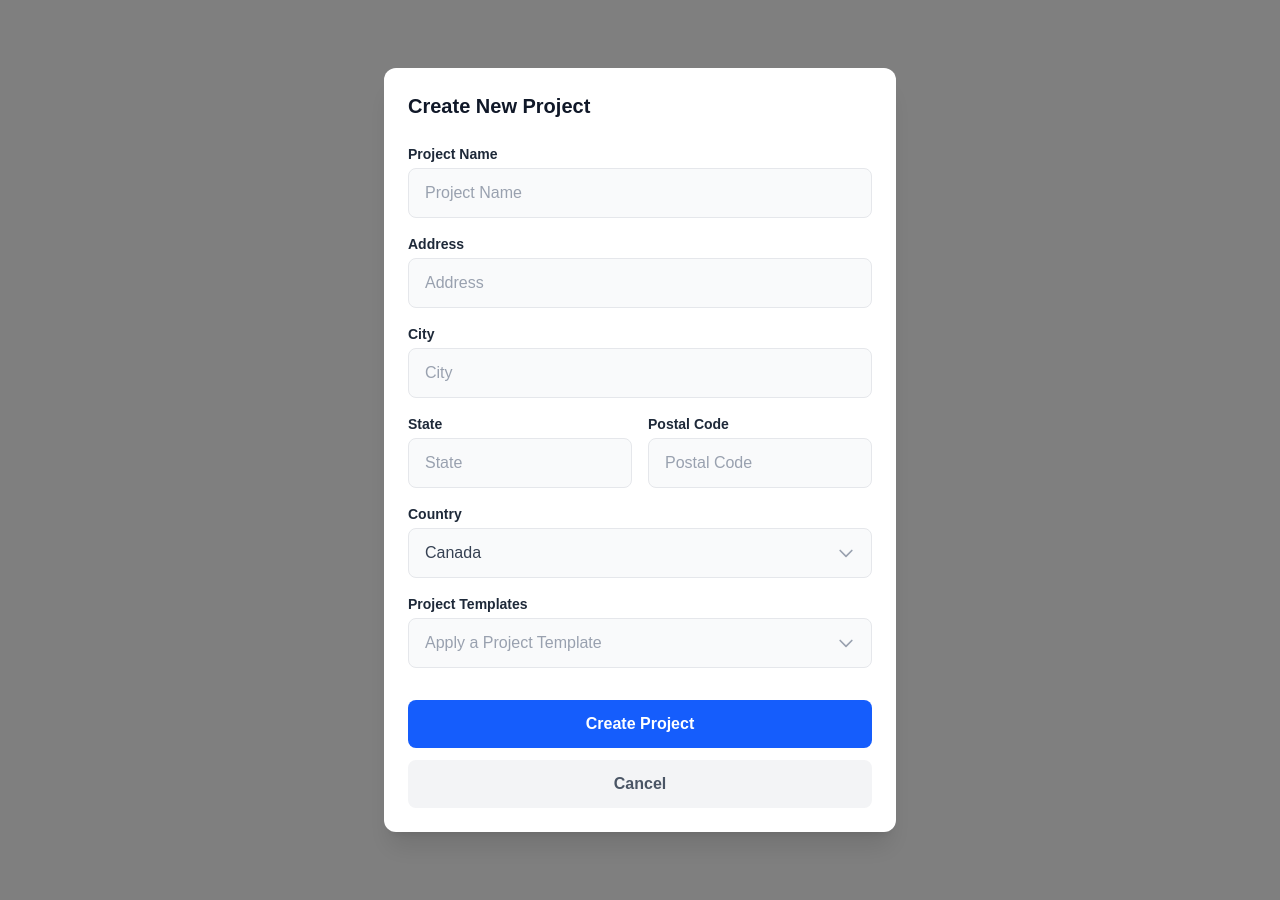
Scenario: CreateProjectModal › should show error when user is not logged in
Type "Test" into the field labelled "Project Name" at (640, 193), box [408,168,872,218]
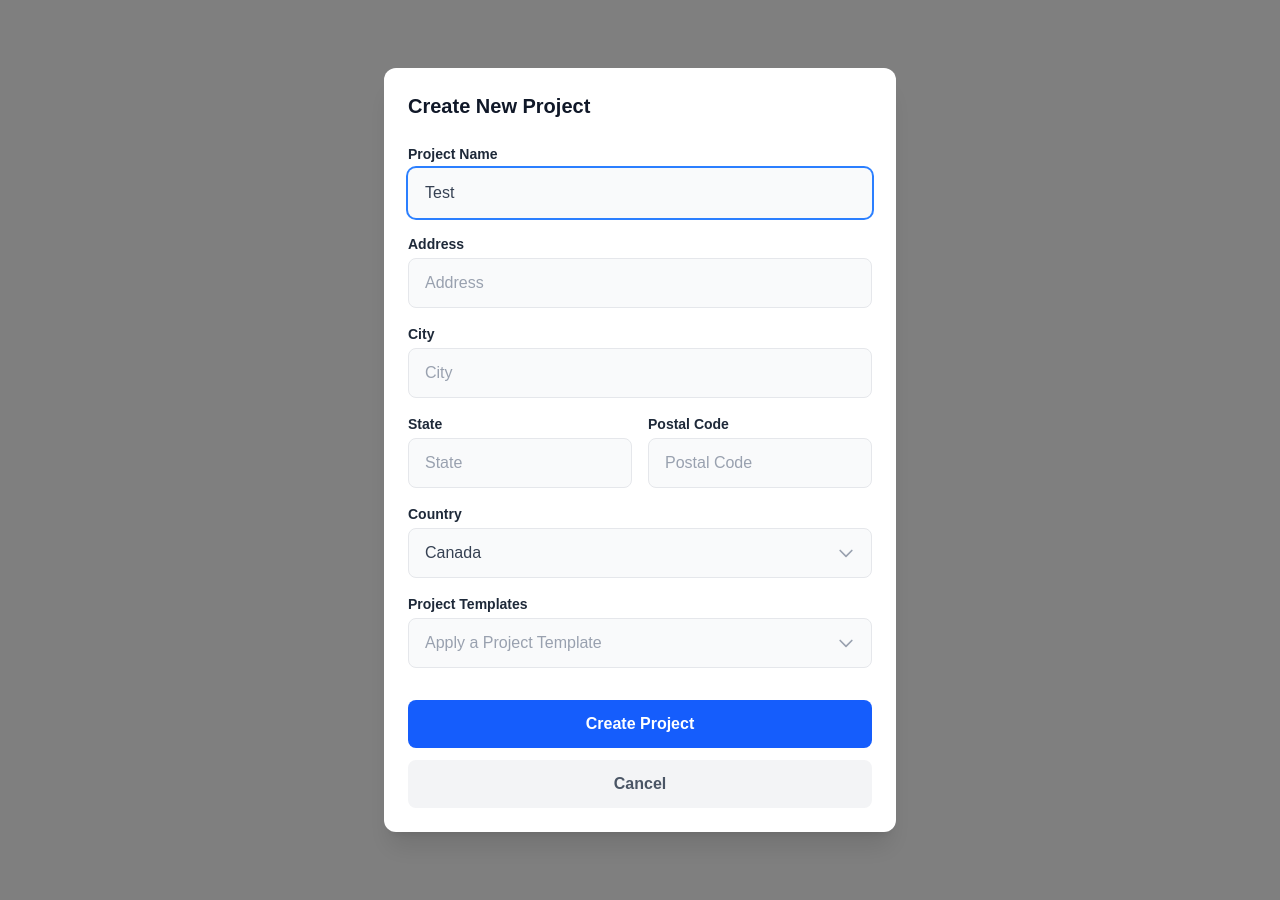
Click the button "Create Project" at (640, 724), box [408,700,872,748]
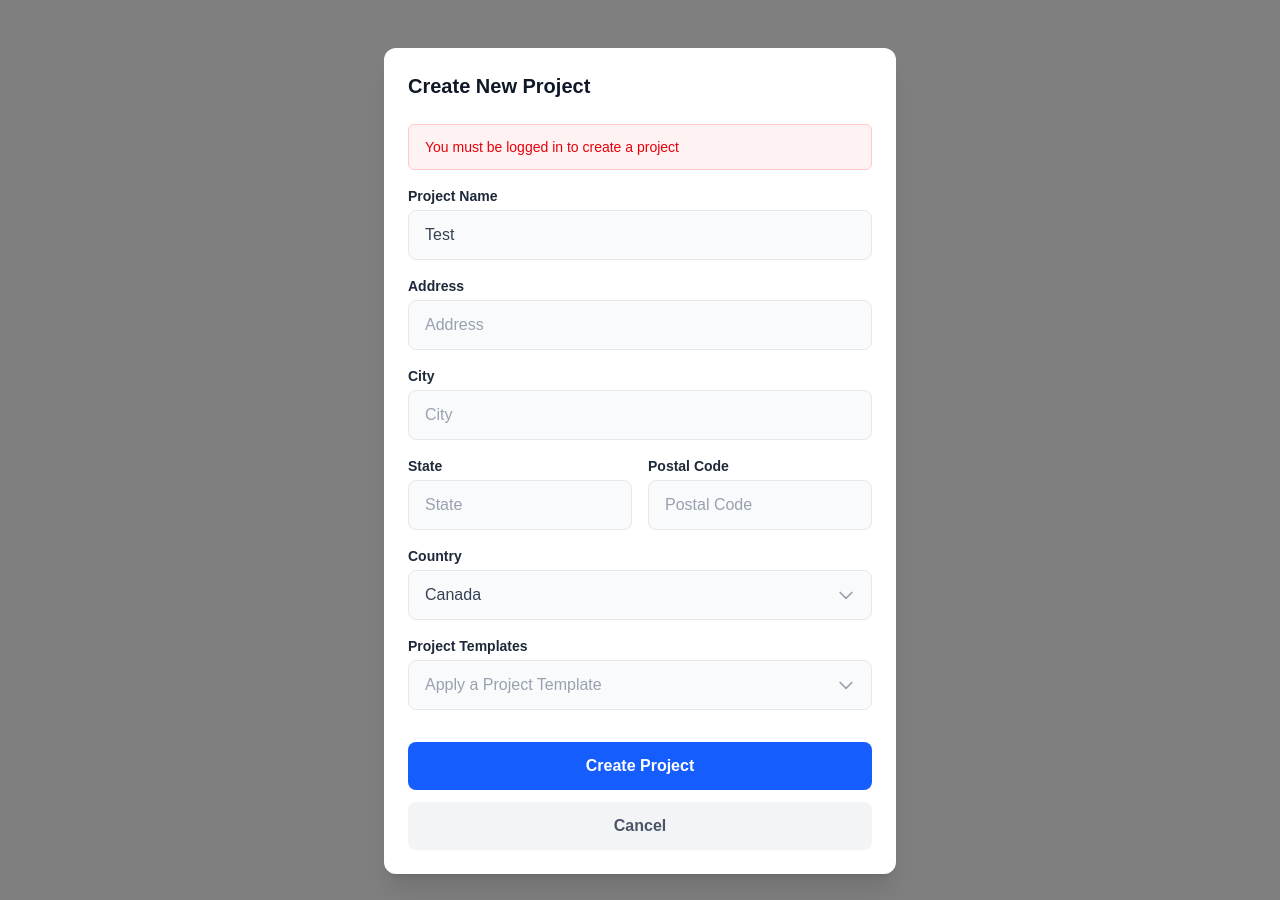
Now the text "You must be logged in to create a project" is shown, box [408,124,872,170]
